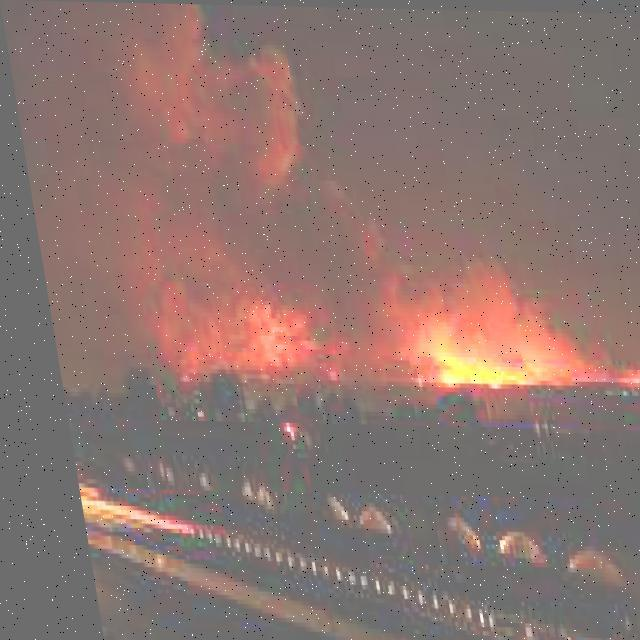Fire: (129, 258, 625, 394)
